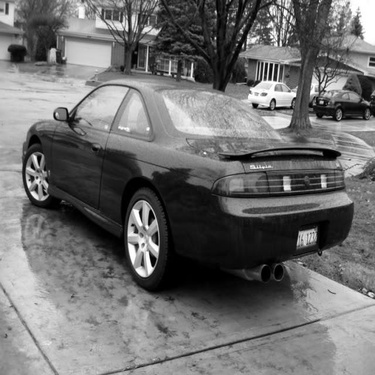car: (15, 64, 363, 296), (308, 86, 371, 120), (244, 76, 298, 113), (287, 79, 329, 110), (369, 84, 374, 120)
